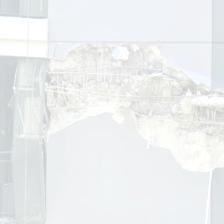High: (10, 34, 224, 182)
